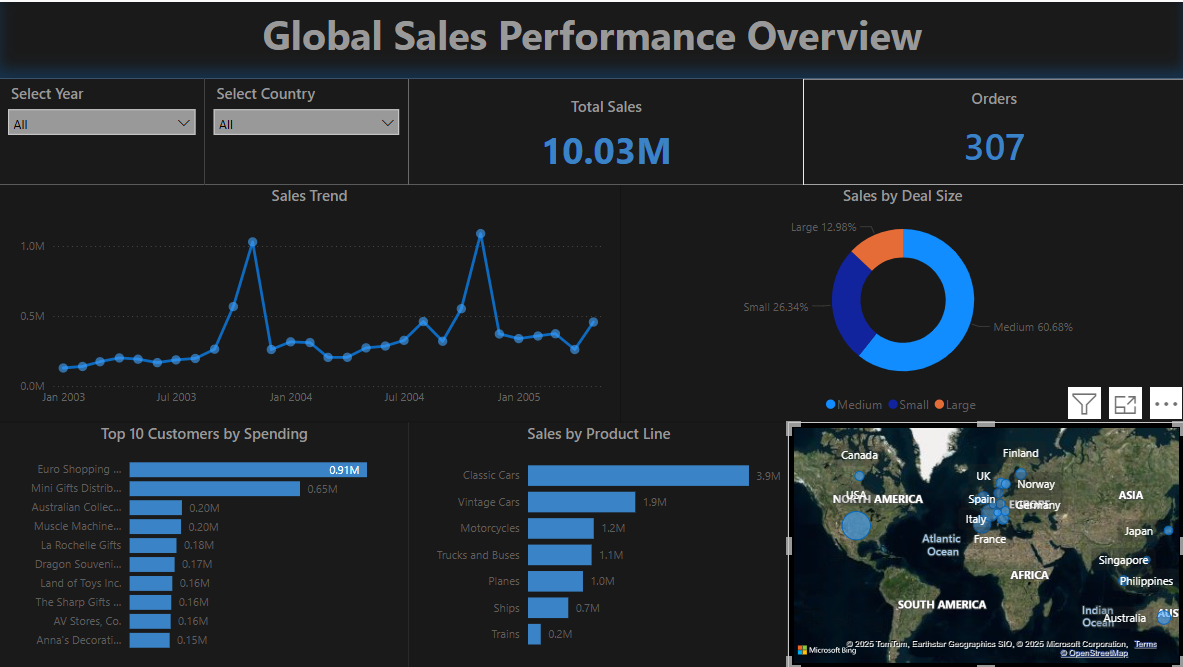

This screenshot's page, from the dashboard's own definition file:
{"tool":"powerbi","page":{"name":"Page 1","canvas":[1280,720],"ordinal":0},"visuals":[{"type":"cardVisual","title":"Total Revenue","fields":{"Data":["Sum(orders.SALES)"]},"box":[442,82.6,425.9,115],"z":0},{"type":"lineChart","title":"Sales Trend","fields":{"Y":["Sum(orders.SALES)"],"Category":["orders.ORDERDATE (bins)"]},"box":[0,197.5,670.4,255.8],"z":1000,"group":"g1"},{"type":"barChart","title":"Sales by Product Line","fields":{"Y":["Sum(orders.SALES)"],"Category":["orders.PRODUCTLINE"]},"box":[442,453.4,409.7,267.2],"z":2000},{"type":"donutChart","title":"Sales by Deal Size","fields":{"Category":["orders.DEALSIZE"],"Y":["Sum(orders.SALES)"]},"box":[670.4,197.5,610.4,255.8],"z":3000,"group":"g1"},{"type":"clusteredBarChart","title":"Top 10 Customers by Spending","fields":{"Y":["Sum(orders.SALES)"],"Category":["orders.CUSTOMERNAME"]},"box":[0,453.4,442,267.2],"z":4000},{"type":"slicer","fields":{"Values":["orders.YEAR_ID"]},"box":[0,82.6,221.8,115],"z":5000},{"type":"slicer","fields":{"Values":["orders.COUNTRY"]},"box":[221.8,82.6,220.2,115],"z":6000},{"type":"card","title":"Orders","fields":{"Values":["Count(orders.ORDERNUMBER)"]},"box":[867.9,82.6,412.9,115],"z":7000},{"type":"map","fields":{"Category":["orders.COUNTRY"],"Size":["Sum(orders.SALES)"]},"box":[851.7,453.4,429.1,267.2],"z":7001},{"type":"textbox","box":[0,0,1280.8,82.6],"z":7002},{"type":"group","id":"g1","title":"Group 1","box":[0,197.5,1280.8,255.8],"z":7003}]}

Visuals, with their boxes in screenshot pixels (x1, y1, x2, y2), scaled from the page's 1280x720 canvas onto the 1183x667 screenshot:
"Total Revenue" cardVisual: [left=409, top=77, right=802, bottom=183]
"Sales Trend" lineChart: [left=0, top=183, right=620, bottom=420]
"Sales by Product Line" barChart: [left=409, top=420, right=787, bottom=666]
"Sales by Deal Size" donutChart: [left=620, top=183, right=1182, bottom=420]
"Top 10 Customers by Spending" clusteredBarChart: [left=0, top=420, right=409, bottom=666]
slicer - orders.YEAR_ID: [left=0, top=77, right=205, bottom=183]
slicer - orders.COUNTRY: [left=205, top=77, right=409, bottom=183]
"Orders" card: [left=802, top=77, right=1182, bottom=183]
map - orders.COUNTRY x Sum(orders.SALES): [left=787, top=420, right=1182, bottom=666]
textbox: [left=0, top=0, right=1182, bottom=77]
"Group 1" group: [left=0, top=183, right=1182, bottom=420]
